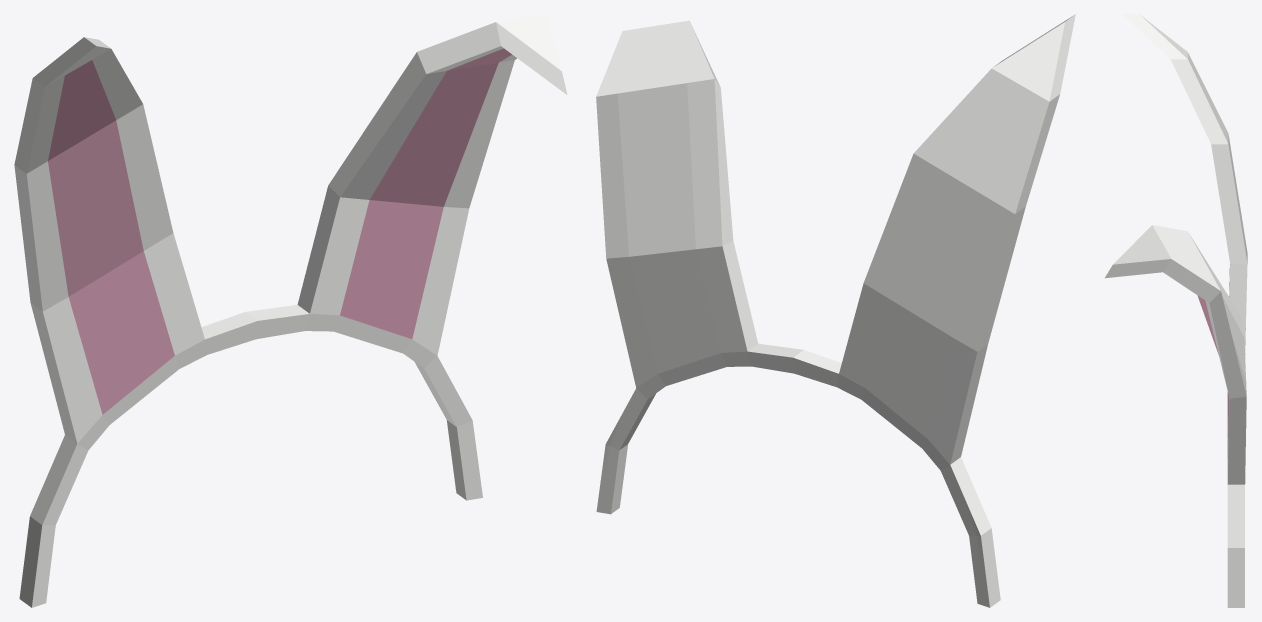
The model's file is Bunny ears.fbx.
3 views of the same model, side by side, from view 1: azimuth 30°, elevation 25°; view 2: azimuth 150°, elevation 25°; view 3: azimuth 270°, elevation 25° (orthographic). The views are drawn at different scales.
Visible parts, largest first — view 1: Circle.002; view 2: Circle.002; view 3: Circle.002.
Part boxes in pixels (box(x1,y1,x2,y2)): Circle.002: box(14, 14, 567, 607); Circle.002: box(596, 14, 1075, 607); Circle.002: box(1105, 14, 1247, 607).
Size of the model in its own units: 1246 by 1471 by 438.
1 material, 1 textured.
